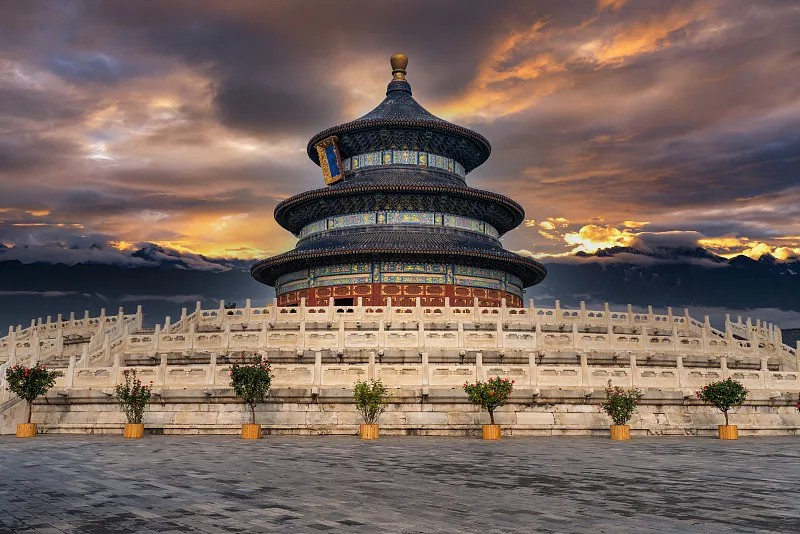Heaven: (250, 53, 548, 308)
